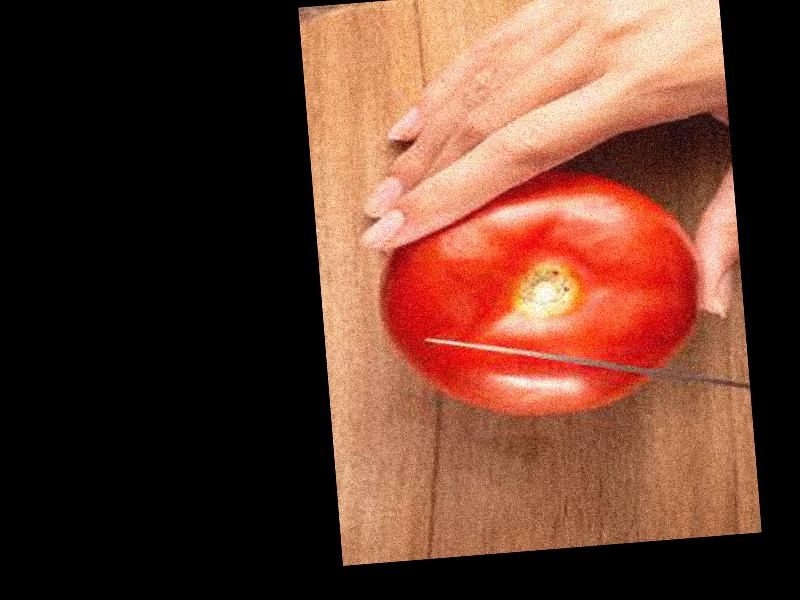Tomato: (372, 158, 706, 421)
